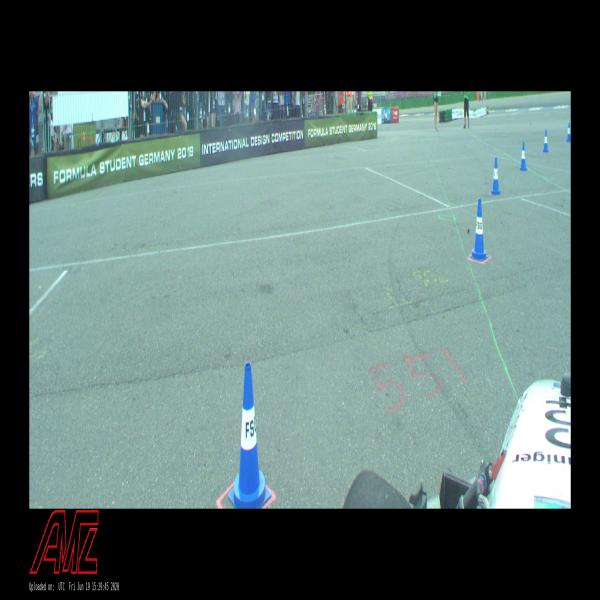blue_cone: (229, 362, 271, 508), (470, 199, 488, 261), (491, 158, 501, 195), (520, 141, 527, 171), (566, 122, 571, 142), (544, 130, 548, 152)
